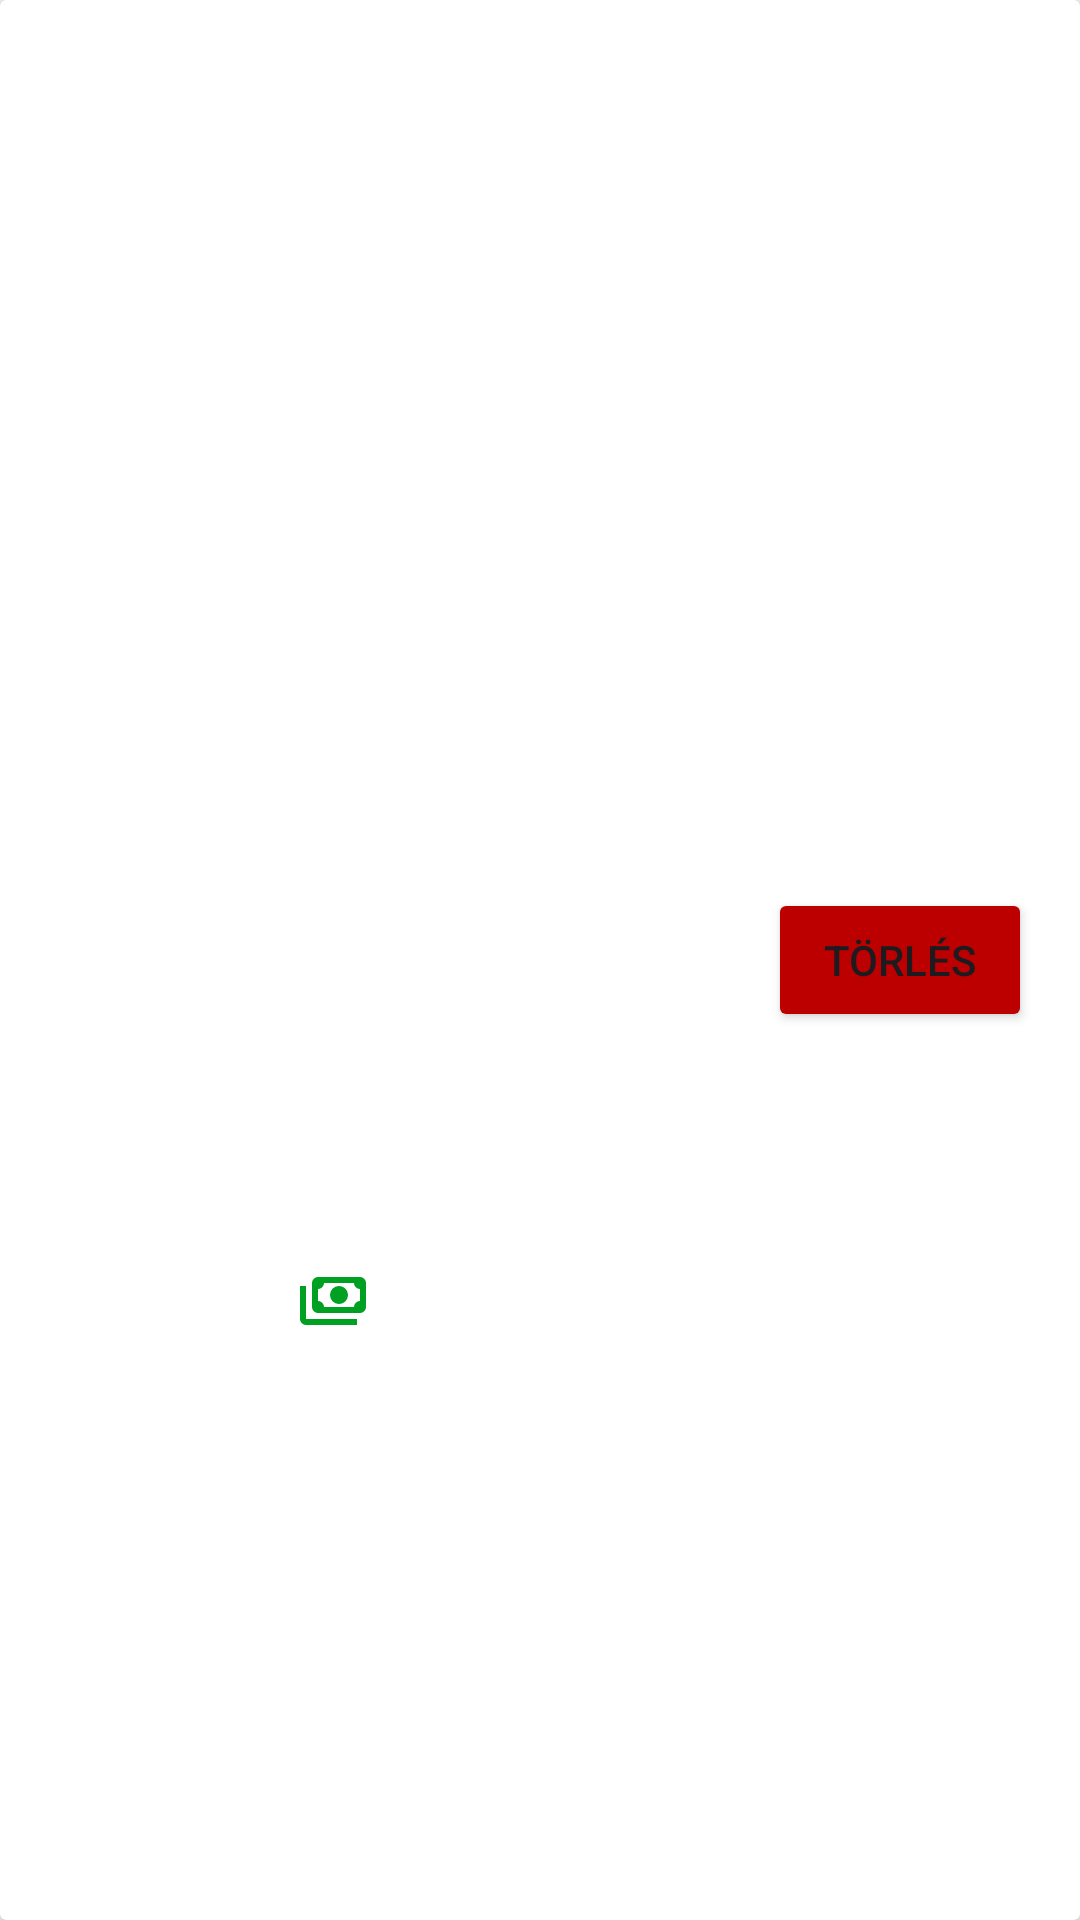

Icons on this 1080*1920 Android screen, each with its box as (x1, y1, x2, y2):
payments: (300, 1277, 366, 1325)
